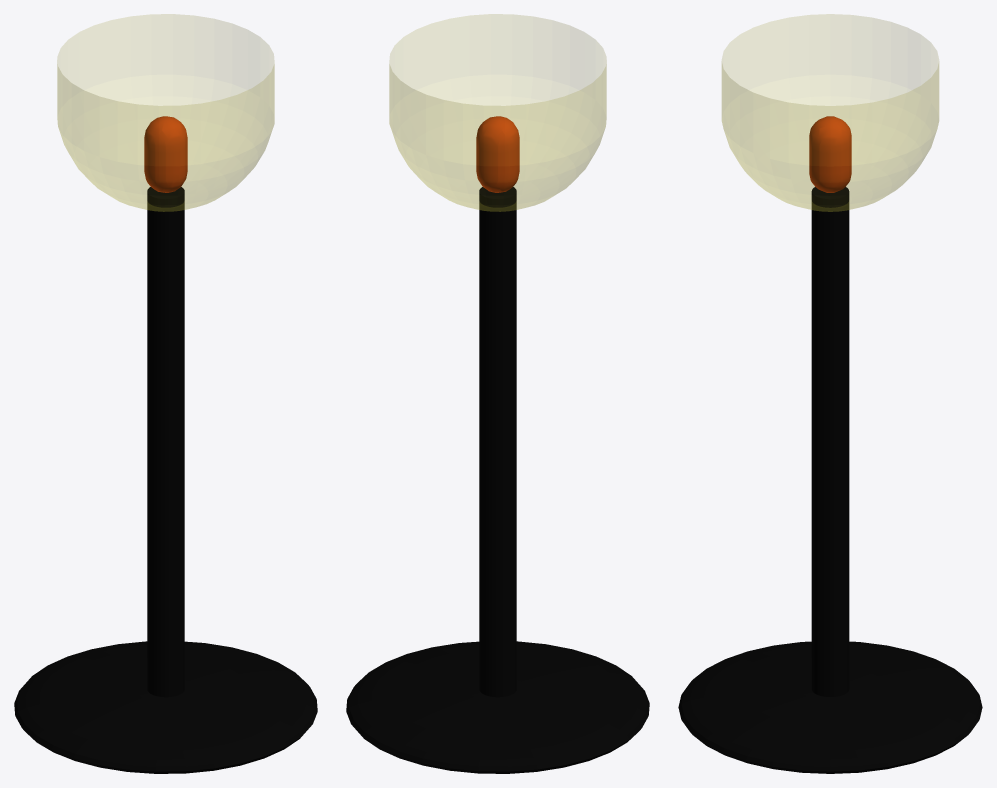
The model's file is lamp.obj.
3 views of the same model, side by side, from view 1: azimuth 30°, elevation 25°; view 2: azimuth 150°, elevation 25°; view 3: azimuth 270°, elevation 25° (orthographic).
Visible parts, largest first — view 1: Sphere.001, Sphere, Cylinder, Mball; view 2: Sphere.001, Sphere, Cylinder, Mball; view 3: Sphere.001, Sphere, Cylinder, Mball.
Boxes of the visible parts, x1,y1,x2,y2 form: Sphere.001: (57,14,274,211); Sphere: (14,641,317,773); Cylinder: (147,187,184,697); Mball: (144,116,187,192); Sphere.001: (389,14,606,211); Sphere: (346,641,649,773); Cylinder: (479,187,516,697); Mball: (476,116,519,192); Sphere.001: (722,14,938,211); Sphere: (678,641,982,773); Cylinder: (811,187,849,696); Mball: (809,116,851,192).
Bounding box in the file's own units: 2 × 4.83 × 2.
